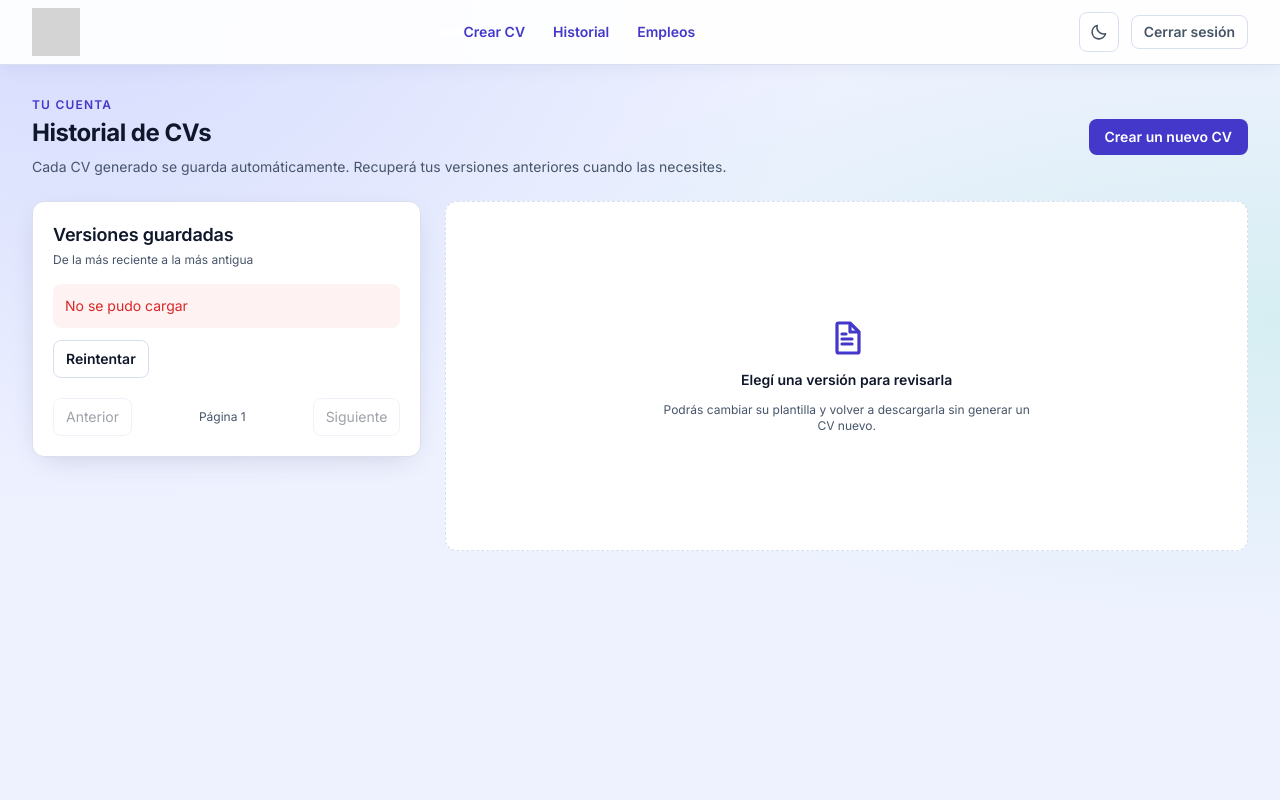
Historial de CVs › muestra vacío y error con reintento
Expected: the message with test id "history-error" reads "No se pudo cargar", top-left (65, 297), bottom-right (188, 314)
Click the button with test id "history-retry". click: coordinates (101, 359)
box: top-left (53, 340), bottom-right (149, 378)
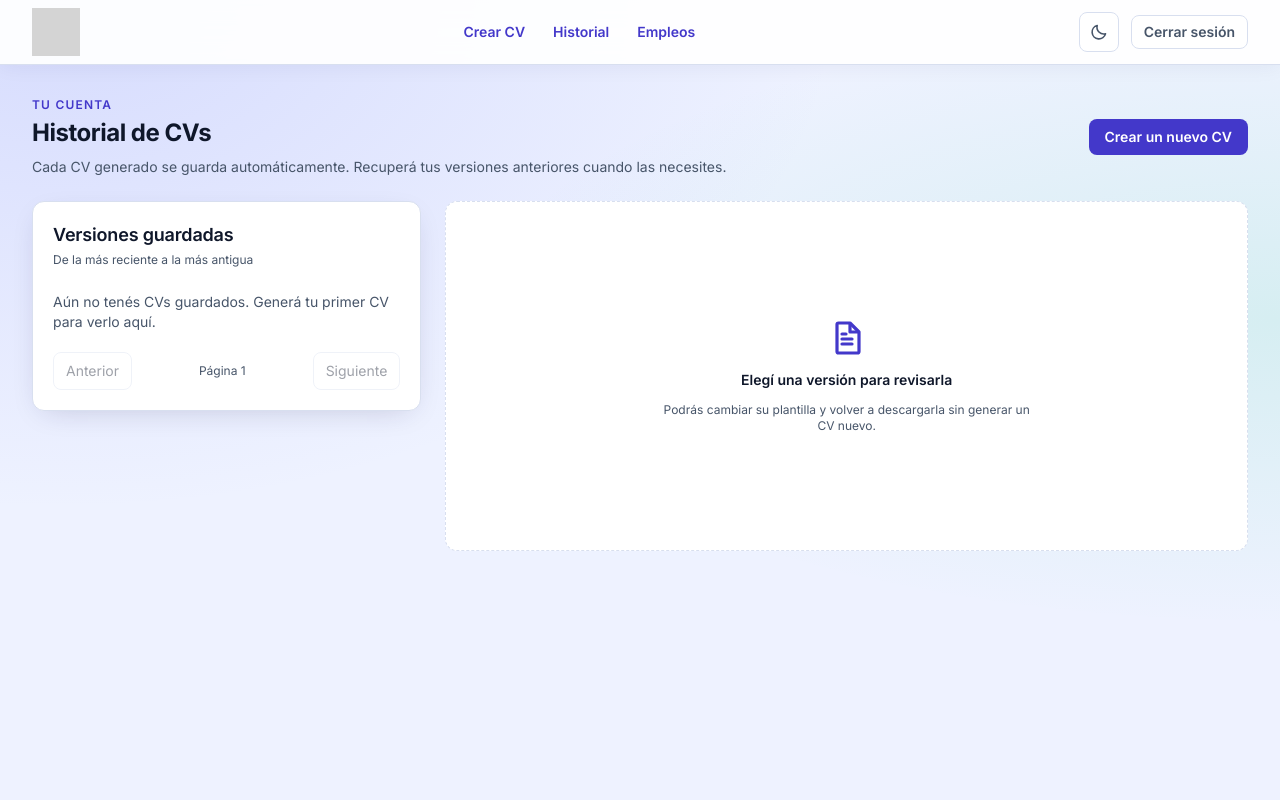
Now the text with test id "history-empty" is shown, box top-left (53, 292), bottom-right (400, 332)
